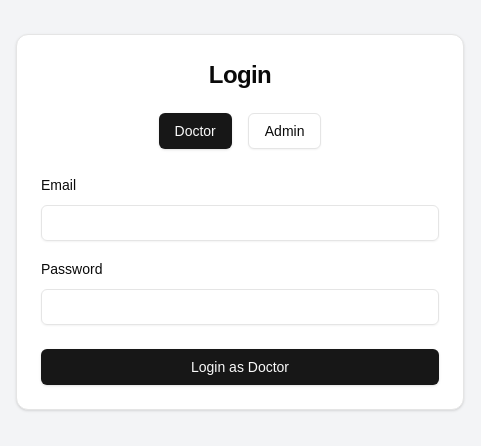
Test: LoginPage Component › shows an error for invalid email format
In the field with test id "email-input": (240, 223) left=41, top=205, right=439, bottom=241, type "invalid-email"
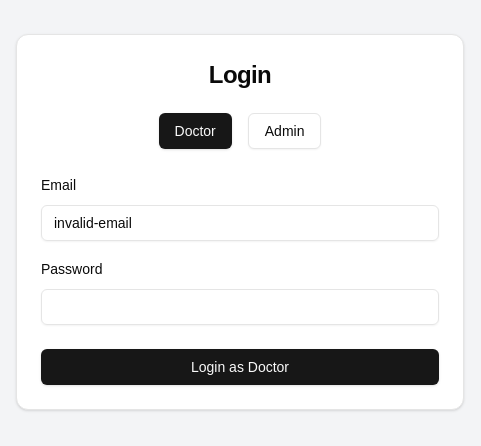
In the password field with test id "password-input": (240, 307) left=41, top=289, right=439, bottom=325, type "password123"
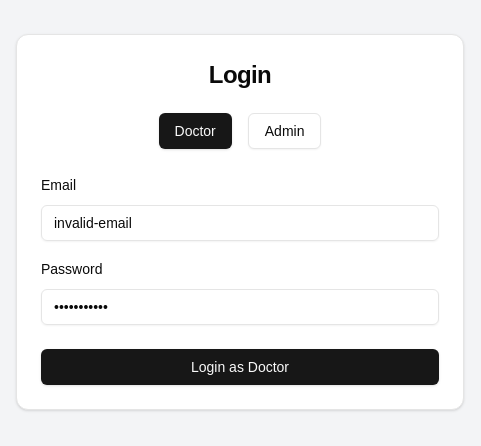
Click the button with test id "login-submit-button": click(240, 367) left=41, top=349, right=439, bottom=385
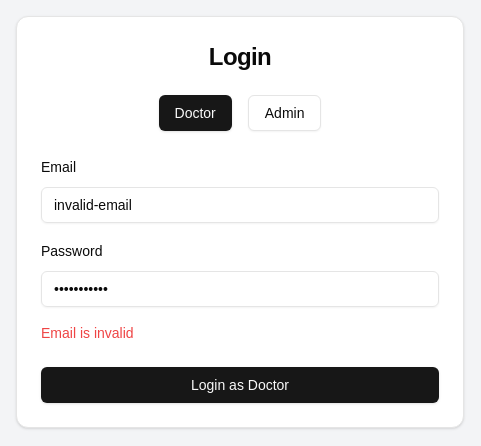
expect the text with test id "error-message" reads "Email is invalid": met, box left=41, top=325, right=134, bottom=341
